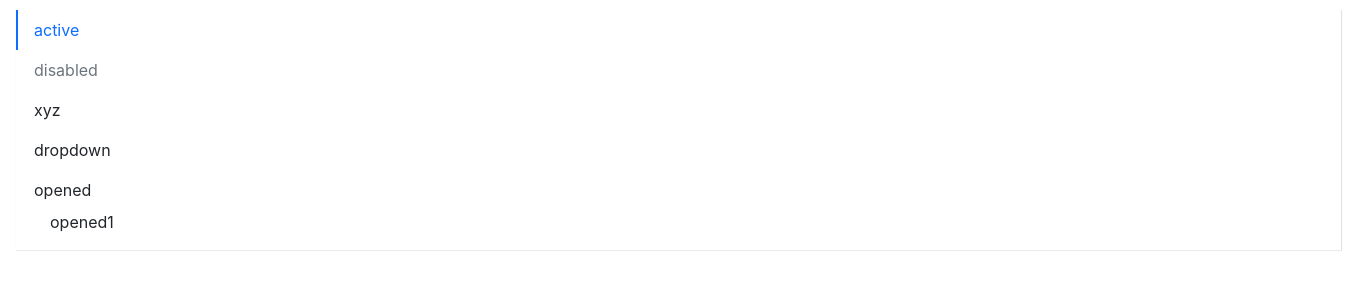
Test: test Menu and MenuItem component in vertical mode › hould show dropdown items when click on subMenu for vertical mode
expect the text "drop1" is not shown: met
What coordinates should you click on to do the following:
click the text "dropdown"
I would click on:
 (72, 150)
Its box is [34, 140, 111, 160].
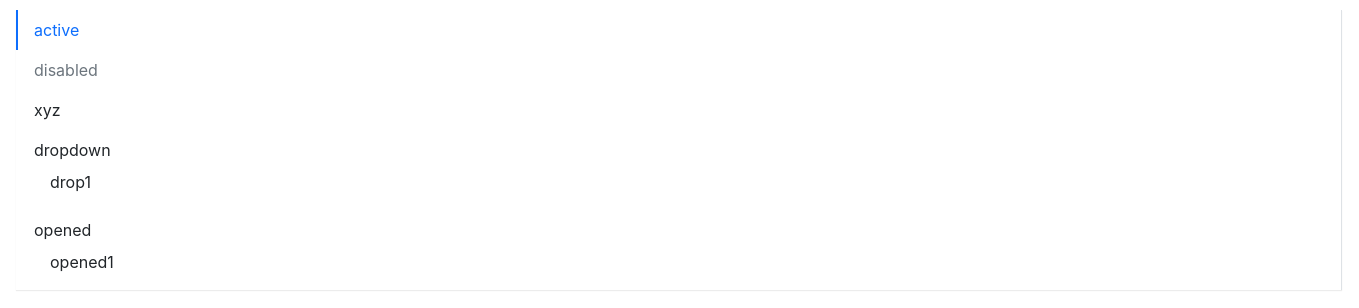
expect the list item "drop1" is shown: met, box [50, 172, 91, 192]
